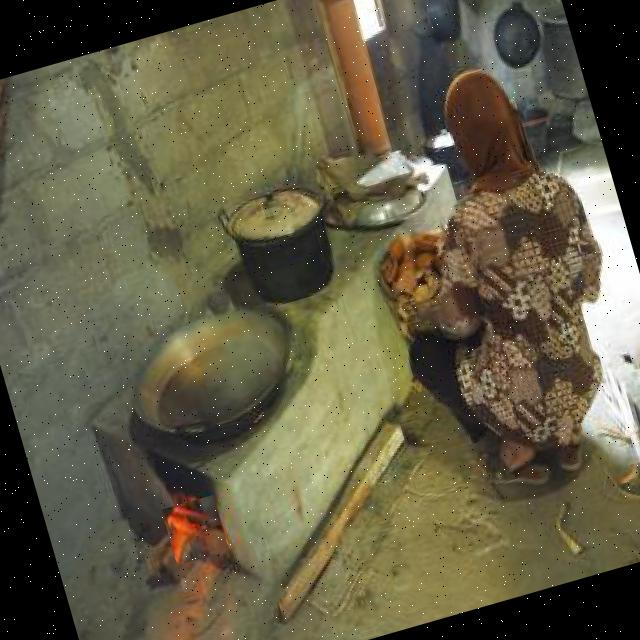fire: (161, 494, 229, 565)
